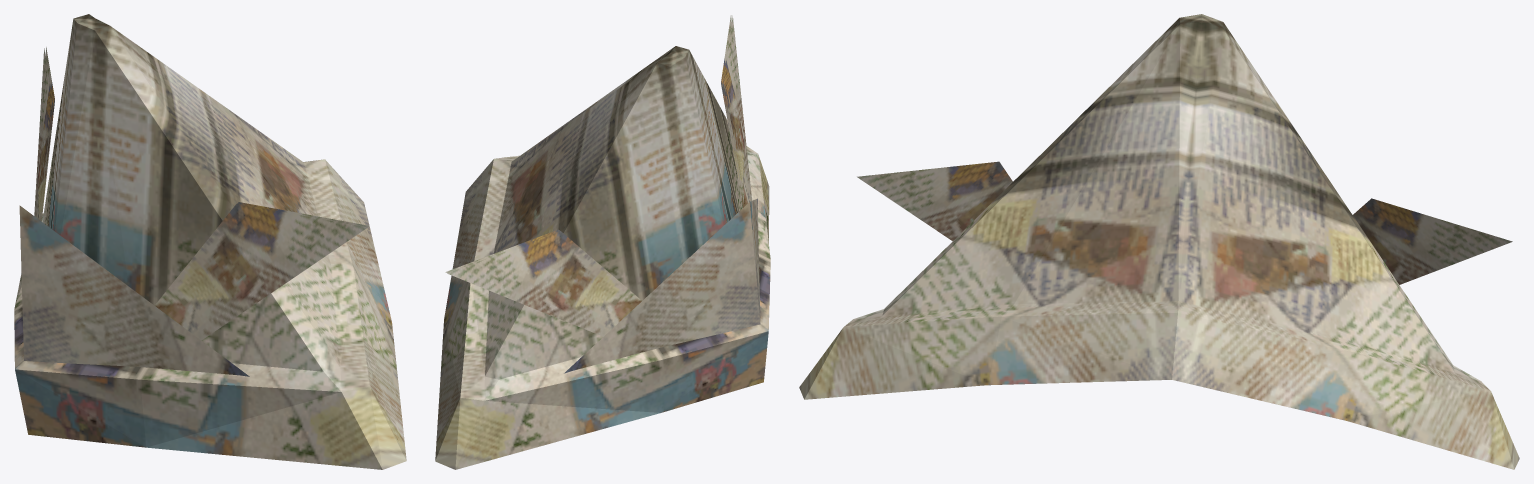
The model's file is Bat_paperHat.obj.
The picture shows the model from 3 angles, left to right: view 1: azimuth 30°, elevation 25°; view 2: azimuth 150°, elevation 25°; view 3: azimuth 270°, elevation 25°; orthographic projection. The views are drawn at different scales.
Visible parts, largest first — view 1: Bat_paperHat_tri; view 2: Bat_paperHat_tri; view 3: Bat_paperHat_tri.
Part boxes in pixels (x1,y1,x2,y2): Bat_paperHat_tri: [14, 14, 406, 469]; Bat_paperHat_tri: [435, 15, 770, 469]; Bat_paperHat_tri: [799, 14, 1519, 469].
Size of the model in its own units: 0.1376 by 0.147 by 0.2448.
1 material, 1 textured.
